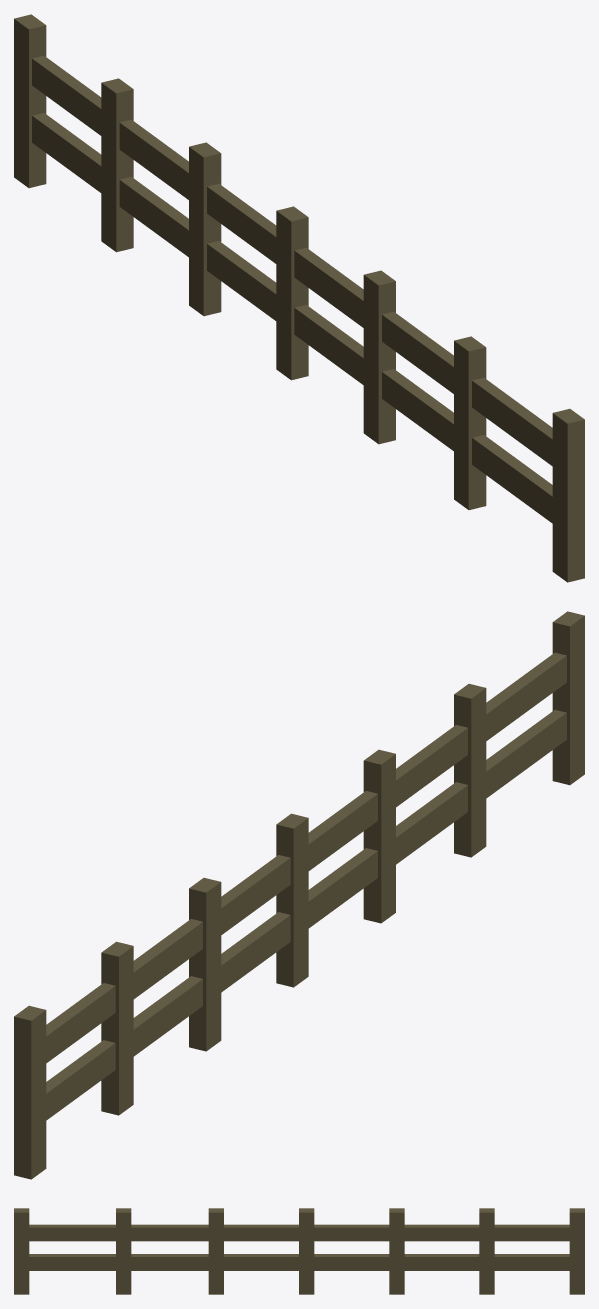
Rendered from BüyükCit.fbx.
3 views of the same model, one above another, from view 1: azimuth 30°, elevation 25°; view 2: azimuth 150°, elevation 25°; view 3: azimuth 270°, elevation 25° (orthographic). The views are drawn at different scales.
Parts seen in each view (by area): view 1: büyükcit; view 2: büyükcit; view 3: büyükcit.
Part boxes in pixels (<box>): büyükcit: <box>14,14,584,582</box>; büyükcit: <box>14,611,584,1179</box>; büyükcit: <box>14,1208,584,1294</box>.
Bounding box in the file's own units: 0.2673 × 2.33 × 14.7.
